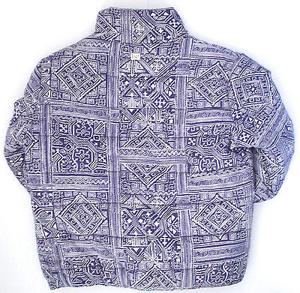C_long sleeve: (2, 3, 300, 291)
